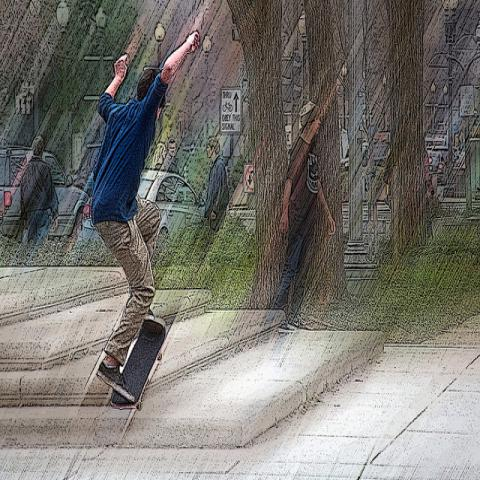car: (0, 149, 89, 244), (138, 168, 206, 240), (226, 174, 256, 239), (428, 152, 448, 186)
